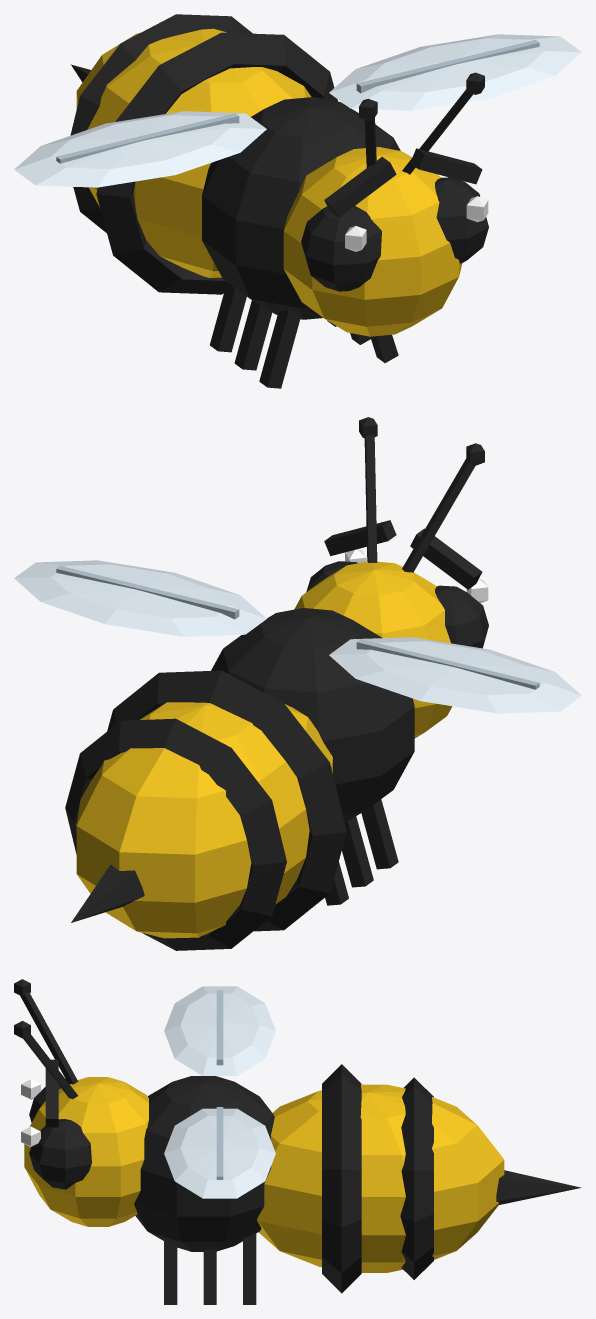
File: wespe.glb
The picture shows the model from 3 angles, top to bottom: view 1: azimuth 30°, elevation 25°; view 2: azimuth 150°, elevation 25°; view 3: azimuth 270°, elevation 25°; orthographic projection. The views are drawn at different scales.
Parts seen in each view (by area): view 1: body-m, wing-0-m, wing-1-m; view 2: body-m, wing-1-m, wing-0-m; view 3: body-m, wing-1-m, wing-0-m.
Part boxes in pixels (x1=…): body-m: x1=70, y1=14, x2=488, y2=388; wing-0-m: x1=14, y1=111, x2=266, y2=187; wing-1-m: x1=329, y1=34, x2=581, y2=110; body-m: x1=65, y1=417, x2=488, y2=950; wing-1-m: x1=14, y1=560, x2=266, y2=636; wing-0-m: x1=329, y1=637, x2=581, y2=713; body-m: x1=14, y1=979, x2=581, y2=1304; wing-1-m: x1=164, y1=1107, x2=275, y2=1198; wing-0-m: x1=164, y1=986, x2=275, y2=1075.
Size of the model in its own units: 1.53 by 0.95 by 1.73.
